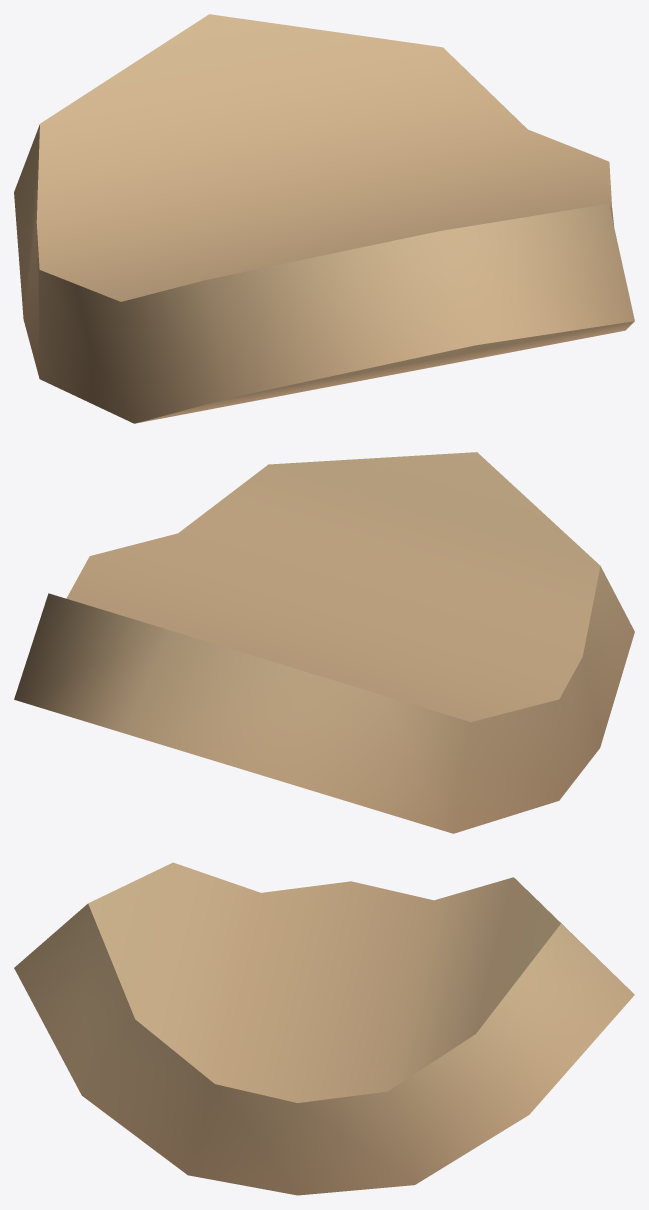
Rendered from (%no-merge) 7.glb.
The picture shows the model from 3 angles, top to bottom: view 1: azimuth 30°, elevation 25°; view 2: azimuth 150°, elevation 25°; view 3: azimuth 270°, elevation 25°; orthographic projection. The views are drawn at different scales.
Parts seen in each view (by area): view 1: (%no-merge) 7; view 2: (%no-merge) 7; view 3: (%no-merge) 7.
Boxes of the visible parts, <box> form: (%no-merge) 7: <box>14,14,634,423</box>; (%no-merge) 7: <box>14,452,634,833</box>; (%no-merge) 7: <box>14,862,634,1195</box>.
Size of the model in its own units: 0.0537 by 0.0193 by 0.0636.
